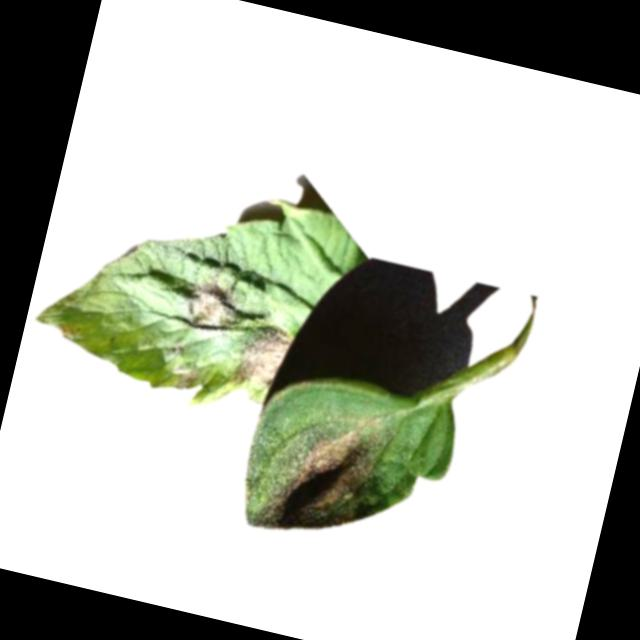Late_blight: (255, 410, 382, 551), (231, 316, 295, 394), (180, 274, 251, 341), (168, 356, 203, 395), (54, 321, 83, 344)
